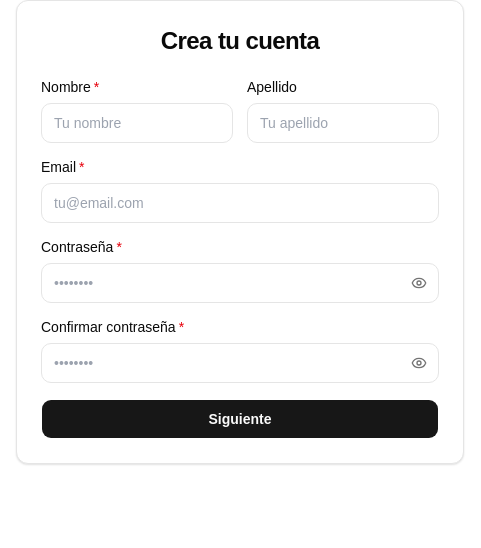
focus goes to the first invalid field in visual order
This screenshot has width=481, height=548.
Type "ana@empresa.com" into the field labelled "Email*" at (240, 203), box [41,183,439,223]
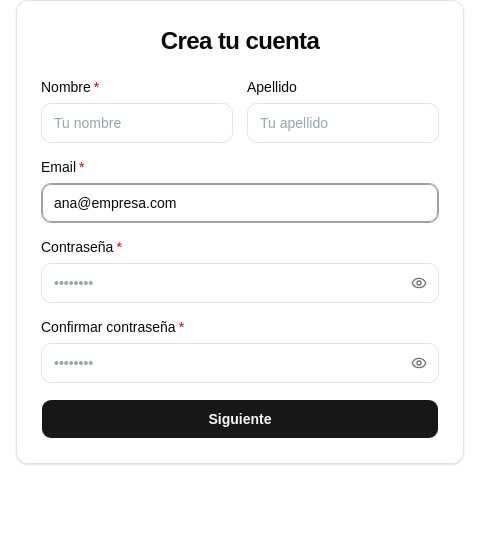
Click the button "Siguiente" at (240, 419), box [41,399,439,439]
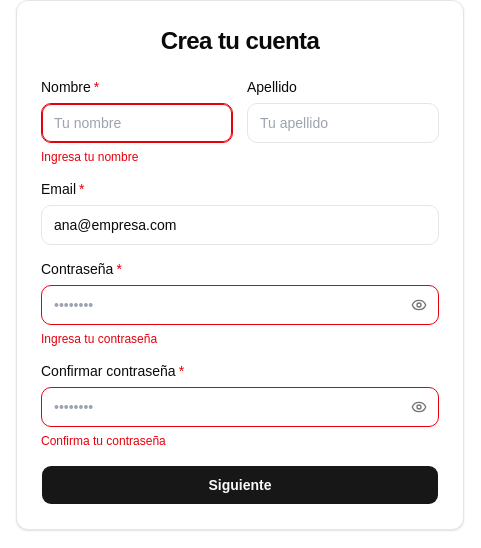
Check: the text "Ingresa tu nombre" is shown, box [41,150,138,164]
Check: the text "Confirma tu contraseña" is shown, box [41,434,166,448]
